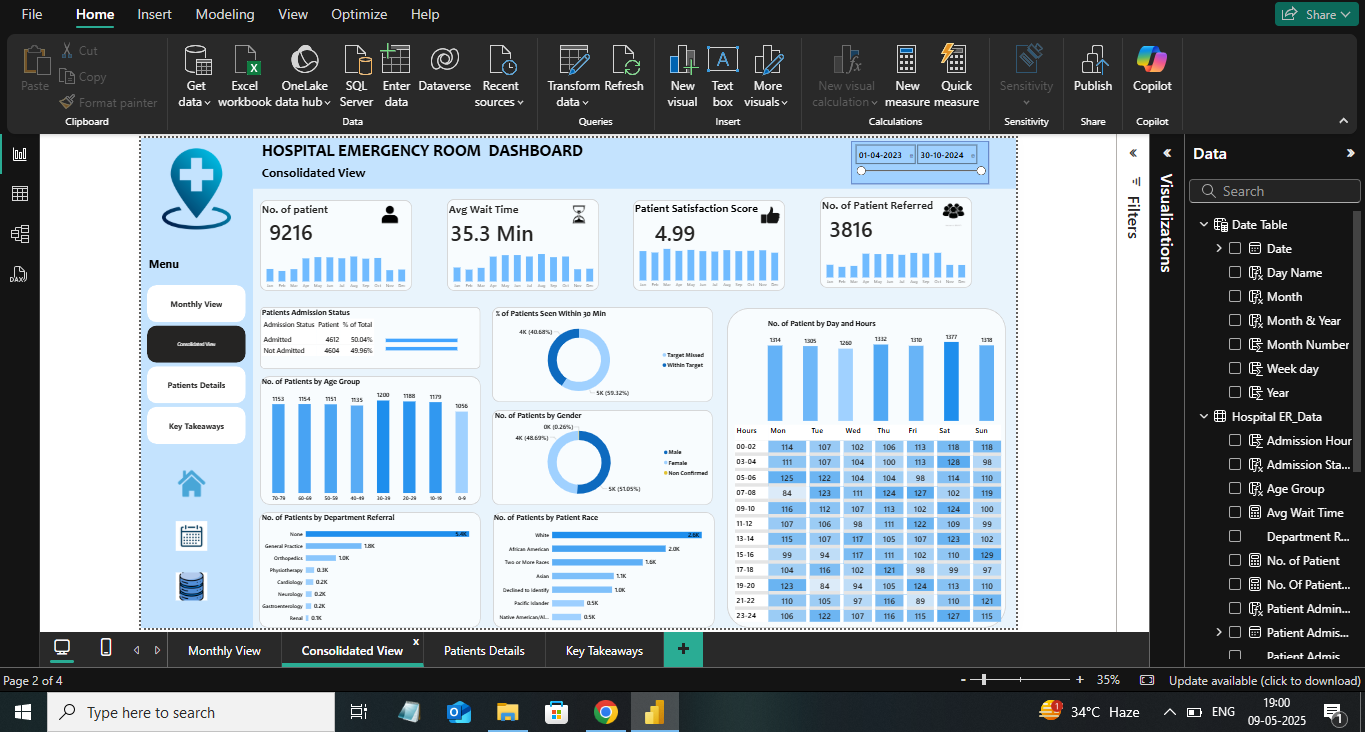

The dashboard page shown, as its layout file describes it:
{"tool":"powerbi","page":{"name":"Consolidated View","canvas":[2500,1400],"ordinal":1},"visuals":[{"type":"shape","box":[1674.3,485.7,797.1,914.3],"z":0},{"type":"shape","box":[0,0,320,1400],"z":1000},{"type":"shape","box":[320,0,2180,145],"z":2000},{"type":"shape","box":[1406.7,177.1,434.3,260],"z":3000},{"type":"shape","box":[340,177.1,434.3,260],"z":4000},{"type":"shape","box":[873.3,174.3,434.3,262.9],"z":5000},{"type":"card","fields":{"Values":["Hospital ER_Data.NO Of Patient"]},"box":[340,220,177.1,88.6],"z":6000},{"type":"slicer","fields":{"Values":["Date Table.Date"]},"box":[2028.6,8.6,394.3,122.9],"z":7000},{"type":"textbox","box":[340,180,217.1,48.6],"z":8000},{"type":"areaChart","fields":{"Category":["Date Table.Date.Variation.Date Hierarchy.Day"]},"box":[320,291.4,434.3,145.7],"z":9000},{"type":"card","fields":{"Values":["Hospital ER_Data.Avg. Wait Time"]},"box":[874.3,228.6,257.1,80],"z":11000},{"type":"textbox","box":[874.3,180,220,48.6],"z":12000},{"type":"card","fields":{"Values":["Hospital ER_Data.Satisfaction Score"]},"box":[1405.7,222.9,240,88.6],"z":13000},{"type":"textbox","box":[1405.7,177.1,374.3,51.4],"z":14000},{"type":"columnChart","fields":{"Category":["Date Table.Month"],"Y":["Hospital ER_Data.Satisfaction Score"]},"box":[1405.7,291.4,434.3,145.7],"z":15000},{"type":"shape","box":[1940,168.6,434.3,260],"z":16000},{"type":"card","fields":{"Values":["Hospital ER_Data.No. Of Patient Referred"]},"box":[1940,211.4,177.1,88.6],"z":17000},{"type":"textbox","box":[1940,168.6,342.9,51.4],"z":18000},{"type":"columnChart","fields":{"Category":["Date Table.Month"],"Y":["Hospital ER_Data.No. Of Patient Referred"]},"box":[1940,282.9,434.3,145.7],"z":19000},{"type":"columnChart","fields":{"Y":["Hospital ER_Data.No. of Patient"],"Category":["Date Table.Month"]},"box":[340,291.4,434.3,148.6],"z":20000},{"type":"columnChart","fields":{"Category":["Date Table.Month"],"Y":["Divide(Sum(Hospital ER_Data.Patient Waittime), ScopedEval(Sum(Hospital ER_Data.Patient Waittime), []))"]},"box":[874.3,291.4,437.1,148.6],"z":21000},{"type":"shape","box":[340,482.9,630,177],"z":22000},{"type":"pivotTable","title":"Patients Admission Status","fields":{"Rows":["Hospital ER_Data.Admission Status"],"Values":["Hospital ER_Data.No. of Patient1","Hospital ER_Data.No. of Patient"]},"box":[340,482.9,631.4,177.1],"z":23000},{"type":"shape","box":[340,680,631.4,368.6],"z":24000},{"type":"barChart","fields":{"Category":["Hospital ER_Data.Admission Status"],"Y":["Hospital ER_Data.No. of Patient"]},"box":[694.3,548.6,277.1,77.1],"z":25000},{"type":"shape","box":[337.1,1068.6,634.3,331.4],"z":26000},{"type":"clusteredColumnChart","title":"No. of Patients  by Age Group","fields":{"Category":["Hospital ER_Data.Age Group"],"Y":["Hospital ER_Data.No. of Patient"]},"box":[340,680,631.4,368.6],"z":27000},{"type":"shape","box":[1002.9,482.9,631,271],"z":28000},{"type":"clusteredBarChart","title":"No. of Patients by Department Referral","fields":{"Category":["Hospital ER_Data.Department Referral"],"Y":["Hospital ER_Data.No. of Patient"]},"box":[340,1068.6,631.4,331.4],"z":29000},{"type":"donutChart","title":"% of Patients Seen Within 30 Min","fields":{"Y":["Hospital ER_Data.No. of Patient"],"Category":["Hospital ER_Data.Waittime Status"]},"box":[1008.6,485.7,614.3,268.6],"z":30000},{"type":"shape","box":[1002.9,777.1,631.4,271.4],"z":31000},{"type":"shape","box":[1005.7,1068.6,634.3,331.4],"z":32000},{"type":"donutChart","title":"No. of Patients by Gender","fields":{"Y":["Hospital ER_Data.No. of Patient"],"Category":["Hospital ER_Data.Patient Gender"]},"box":[1005.7,777.1,628.6,271.4],"z":33000},{"type":"clusteredBarChart","title":"No. of Patients by Patient Race","fields":{"Y":["Hospital ER_Data.No. of Patient"],"Category":["Hospital ER_Data.Patient Race"]},"box":[1002.9,1068.6,634.3,331.4],"z":34000},{"type":"pivotTable","fields":{"Rows":["Hospital ER_Data.Waittime Interval"],"Columns":["Date Table.Day Name"],"Values":["Hospital ER_Data.No. of Patient"]},"box":[1691.4,814.3,780,585.7],"z":35000},{"type":"columnChart","title":"No. of Patient by Day and Hours","fields":{"Category":["Date Table.Day Name"],"Y":["Hospital ER_Data.No. of Patient"]},"box":[1785.7,514.3,660,300],"z":36000},{"type":"textbox","box":[340,0,942.9,71.4],"z":37000},{"type":"textbox","box":[340,71.4,317.1,74.3],"z":38000},{"type":"image","box":[37.1,22.9,242.9,245.7],"z":39000},{"type":"pageNavigator","box":[17.1,420,282.9,454.3],"z":39001},{"type":"textbox","box":[17.1,331.4,117.1,68.6],"z":39002},{"type":"image","box":[94.3,1088.6,100,97.1],"z":39004},{"type":"image","box":[94.3,1234.3,100,94.3],"z":39005},{"type":"image","box":[77.1,925.7,134.3,122.9],"z":39006},{"type":"image","box":[668.6,180,85.7,82.9],"z":39007},{"type":"image","box":[1205.7,174.3,91.4,88.6],"z":39008},{"type":"image","box":[1757.1,180,82.9,80],"z":39009},{"type":"image","box":[2268.6,165.7,105.7,91.4],"z":39010}]}

Visuals, with their boxes on the page's 2500x1400 design canvas (x1, y1, x2, y2). These are canvas units, not pixel positions in the 1365x732 screenshot, which may show the page scaled, cropped or inside an application window:
shape: l=1674, t=486, r=2471, b=1400
shape: l=0, t=0, r=320, b=1400
shape: l=320, t=0, r=2500, b=145
shape: l=1407, t=177, r=1841, b=437
shape: l=340, t=177, r=774, b=437
shape: l=873, t=174, r=1308, b=437
card - Hospital ER_Data.NO Of Patient: l=340, t=220, r=517, b=309
slicer - Date Table.Date: l=2029, t=9, r=2423, b=132
textbox: l=340, t=180, r=557, b=229
areaChart - Date Table.Date.Variation.Date Hierarchy.Day: l=320, t=291, r=754, b=437
card - Hospital ER_Data.Avg. Wait Time: l=874, t=229, r=1131, b=309
textbox: l=874, t=180, r=1094, b=229
card - Hospital ER_Data.Satisfaction Score: l=1406, t=223, r=1646, b=312
textbox: l=1406, t=177, r=1780, b=228
columnChart - Date Table.Month x Hospital ER_Data.Satisfaction Score: l=1406, t=291, r=1840, b=437
shape: l=1940, t=169, r=2374, b=429
card - Hospital ER_Data.No. Of Patient Referred: l=1940, t=211, r=2117, b=300
textbox: l=1940, t=169, r=2283, b=220
columnChart - Date Table.Month x Hospital ER_Data.No. Of Patient Referred: l=1940, t=283, r=2374, b=429
columnChart - Hospital ER_Data.No. of Patient x Date Table.Month: l=340, t=291, r=774, b=440
columnChart - Date Table.Month x Divide(Sum(Hospital ER_Data.Patient Waittime), ScopedEval(Sum(Hospital ER_Data.Patient Waittime), [])): l=874, t=291, r=1311, b=440
shape: l=340, t=483, r=970, b=660
"Patients Admission Status" pivotTable: l=340, t=483, r=971, b=660
shape: l=340, t=680, r=971, b=1049
barChart - Hospital ER_Data.Admission Status x Hospital ER_Data.No. of Patient: l=694, t=549, r=971, b=626
shape: l=337, t=1069, r=971, b=1400
"No. of Patients  by Age Group" clusteredColumnChart: l=340, t=680, r=971, b=1049
shape: l=1003, t=483, r=1634, b=754
"No. of Patients by Department Referral" clusteredBarChart: l=340, t=1069, r=971, b=1400
"% of Patients Seen Within 30 Min" donutChart: l=1009, t=486, r=1623, b=754
shape: l=1003, t=777, r=1634, b=1048
shape: l=1006, t=1069, r=1640, b=1400
"No. of Patients by Gender" donutChart: l=1006, t=777, r=1634, b=1048
"No. of Patients by Patient Race" clusteredBarChart: l=1003, t=1069, r=1637, b=1400
pivotTable - Hospital ER_Data.Waittime Interval x Date Table.Day Name: l=1691, t=814, r=2471, b=1400
"No. of Patient by Day and Hours" columnChart: l=1786, t=514, r=2446, b=814
textbox: l=340, t=0, r=1283, b=71
textbox: l=340, t=71, r=657, b=146
image: l=37, t=23, r=280, b=269
pageNavigator: l=17, t=420, r=300, b=874
textbox: l=17, t=331, r=134, b=400
image: l=94, t=1089, r=194, b=1186
image: l=94, t=1234, r=194, b=1329
image: l=77, t=926, r=211, b=1049
image: l=669, t=180, r=754, b=263
image: l=1206, t=174, r=1297, b=263
image: l=1757, t=180, r=1840, b=260
image: l=2269, t=166, r=2374, b=257
